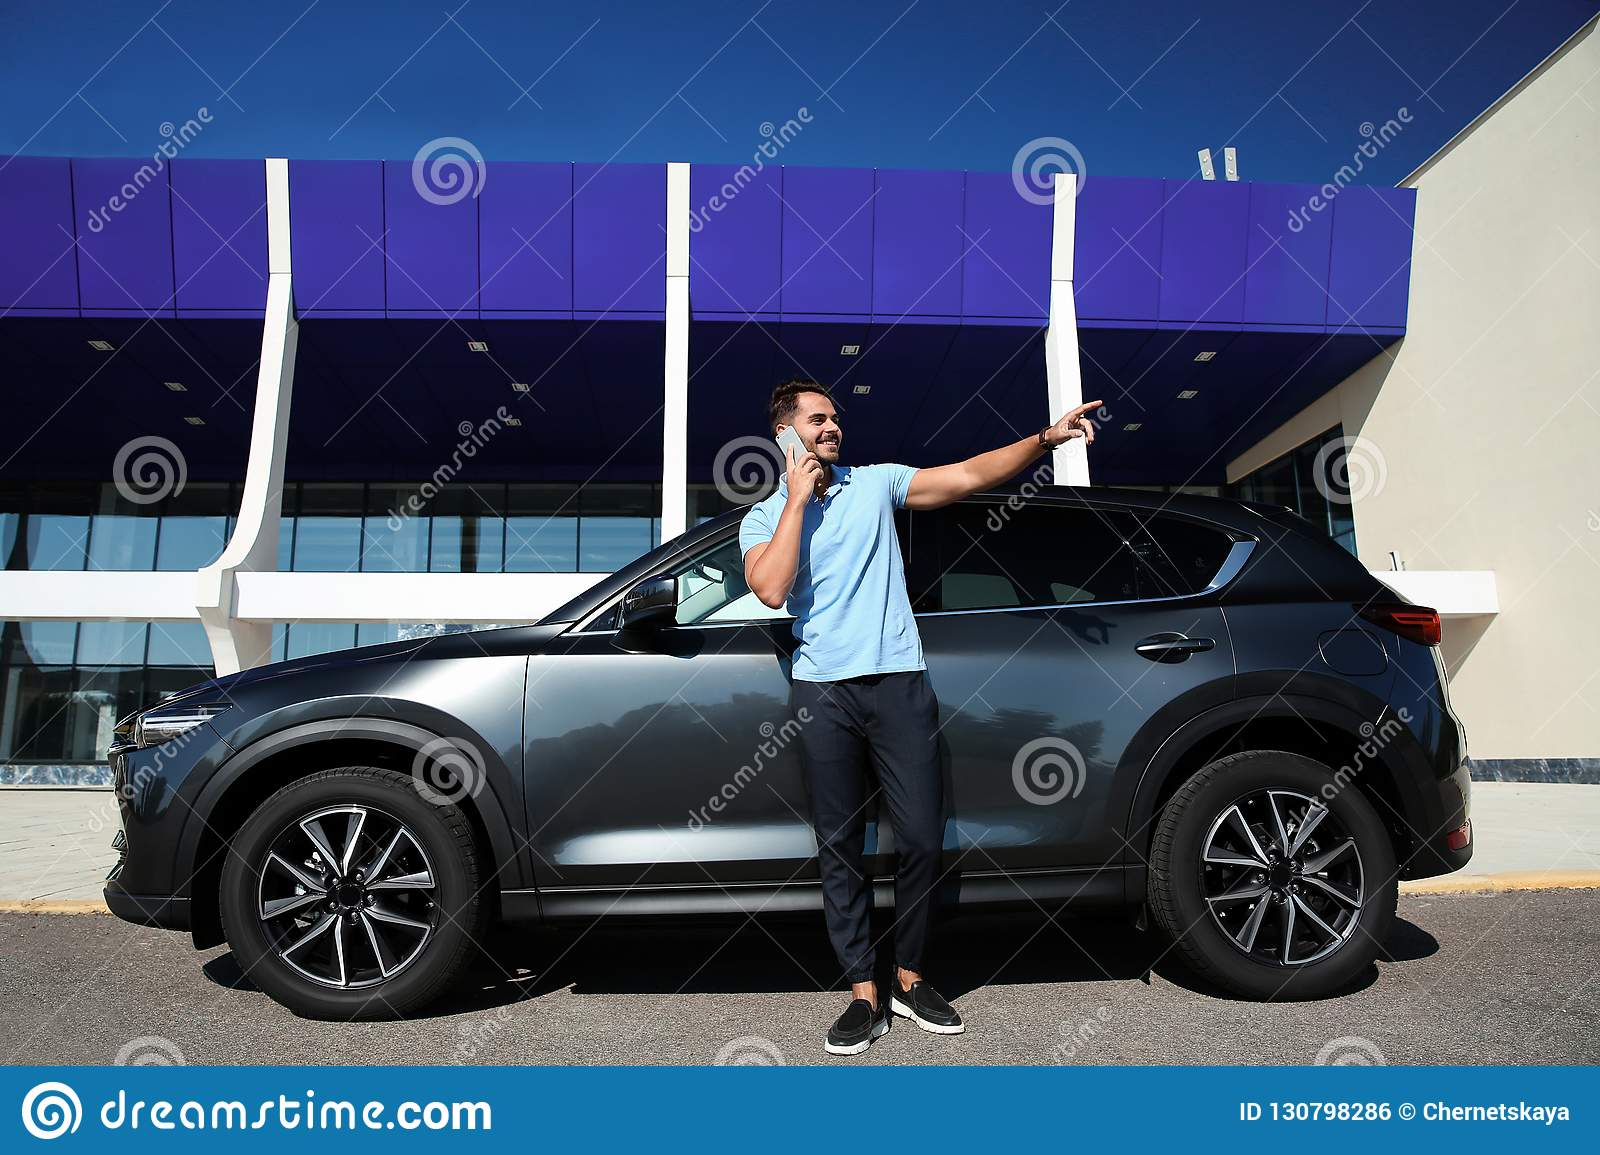phone: (776, 425, 812, 477)
talk: (775, 409, 843, 508)
